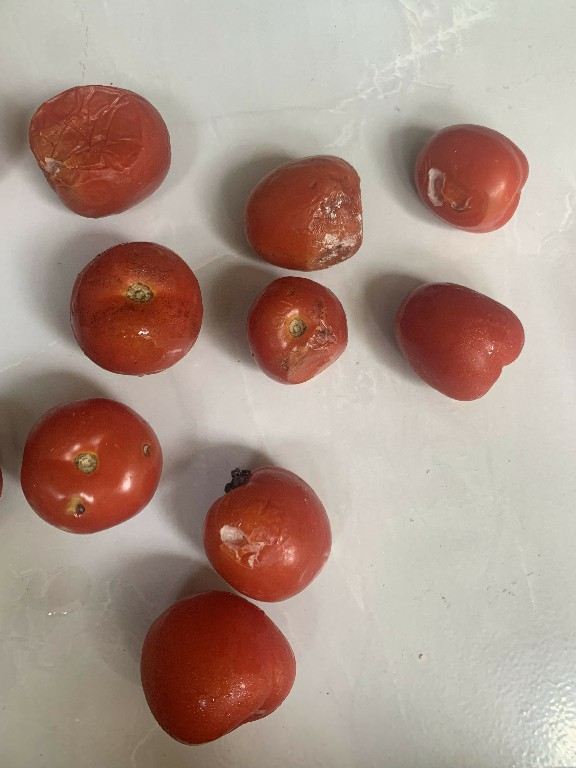NG: (22, 70, 183, 227), (13, 389, 166, 540), (60, 233, 209, 381), (196, 454, 336, 611), (234, 147, 372, 273), (401, 111, 536, 237), (243, 267, 356, 388)
OK: (134, 584, 304, 750), (388, 271, 531, 410)
